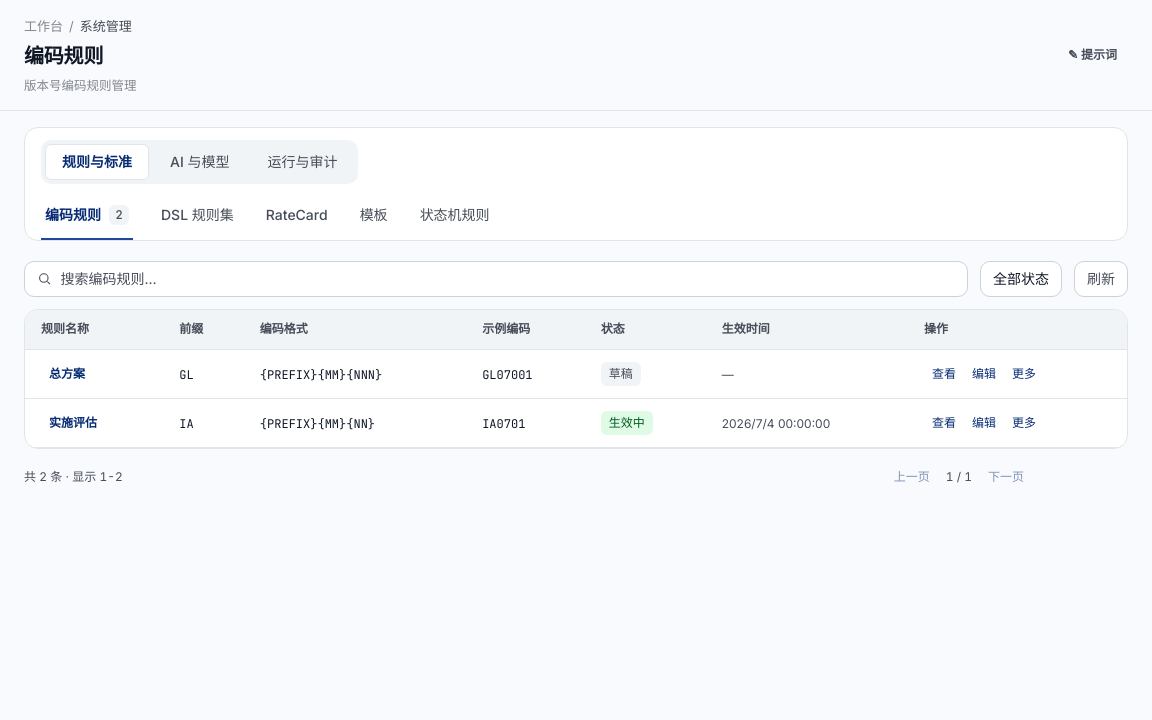
Test: SystemManagement code rules actions › uses rule id for activate and disable actions and shows visible feedback
Expected: the button "总方案" is shown, [41, 358, 93, 390]
Click the button with aria-label "更多操作 总方案" at (1024, 374), box [1004, 358, 1044, 390]
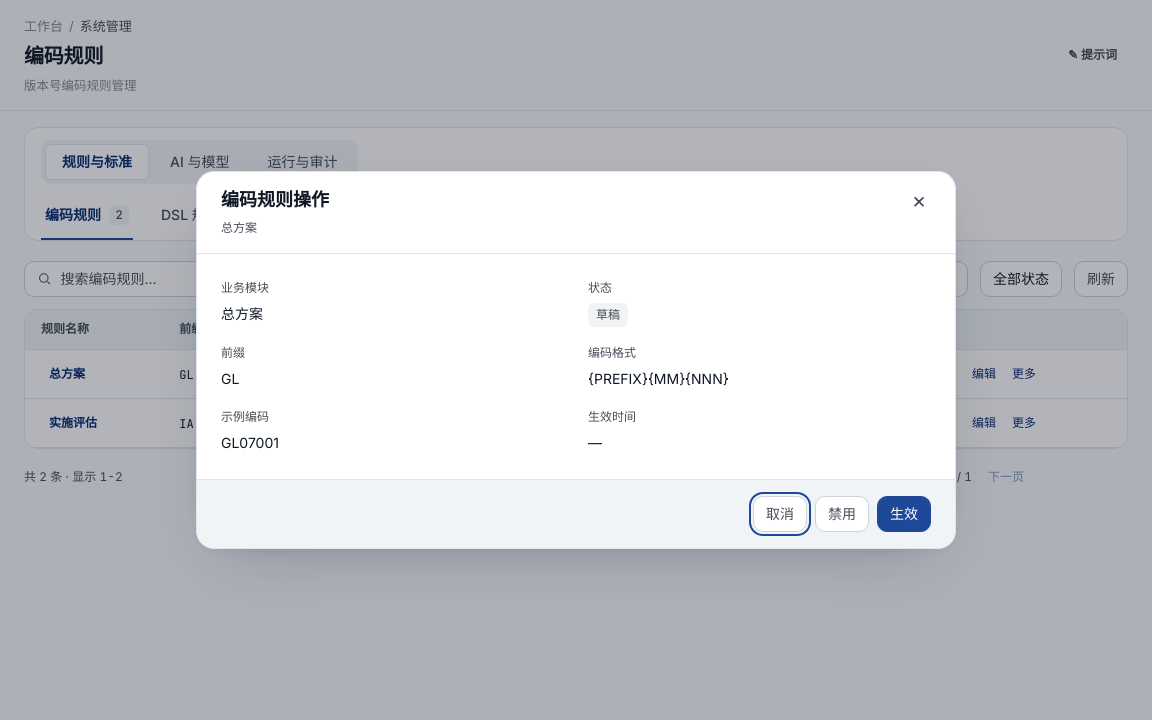
Click the button "生效" at (904, 514), box [877, 496, 931, 532]
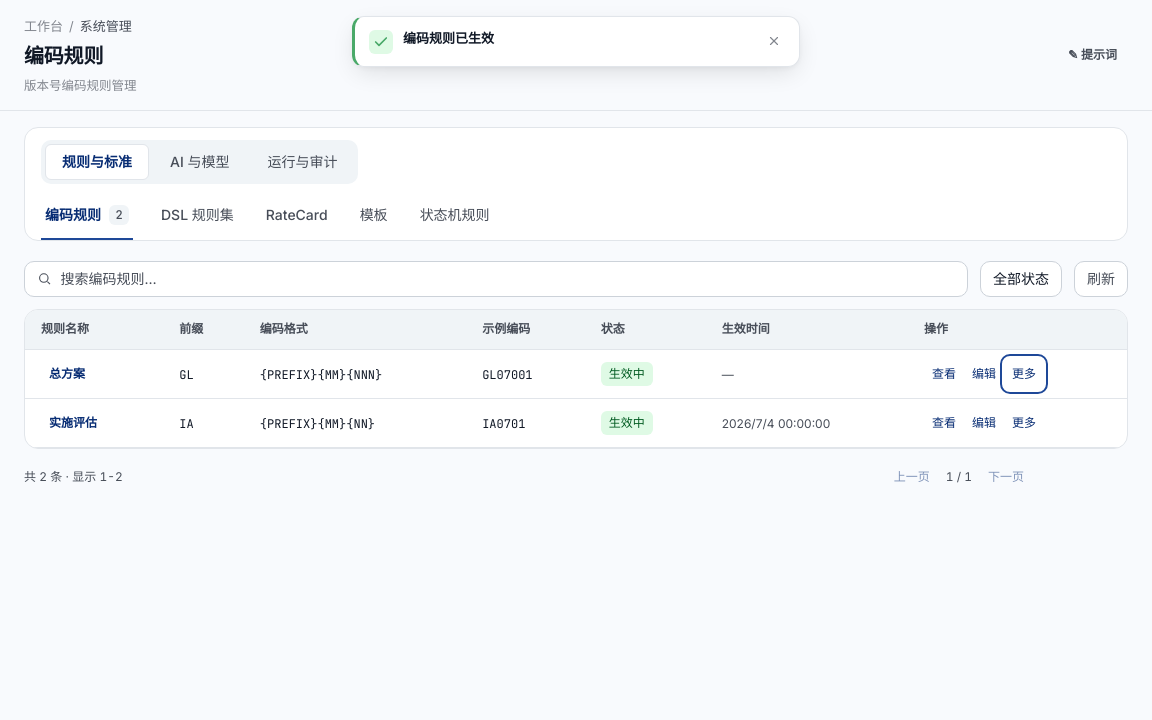
Result: the message reads "编码规则已生效" at [403, 30, 494, 46]
Click the button named "关闭提示" at (773, 41), box [761, 29, 785, 53]
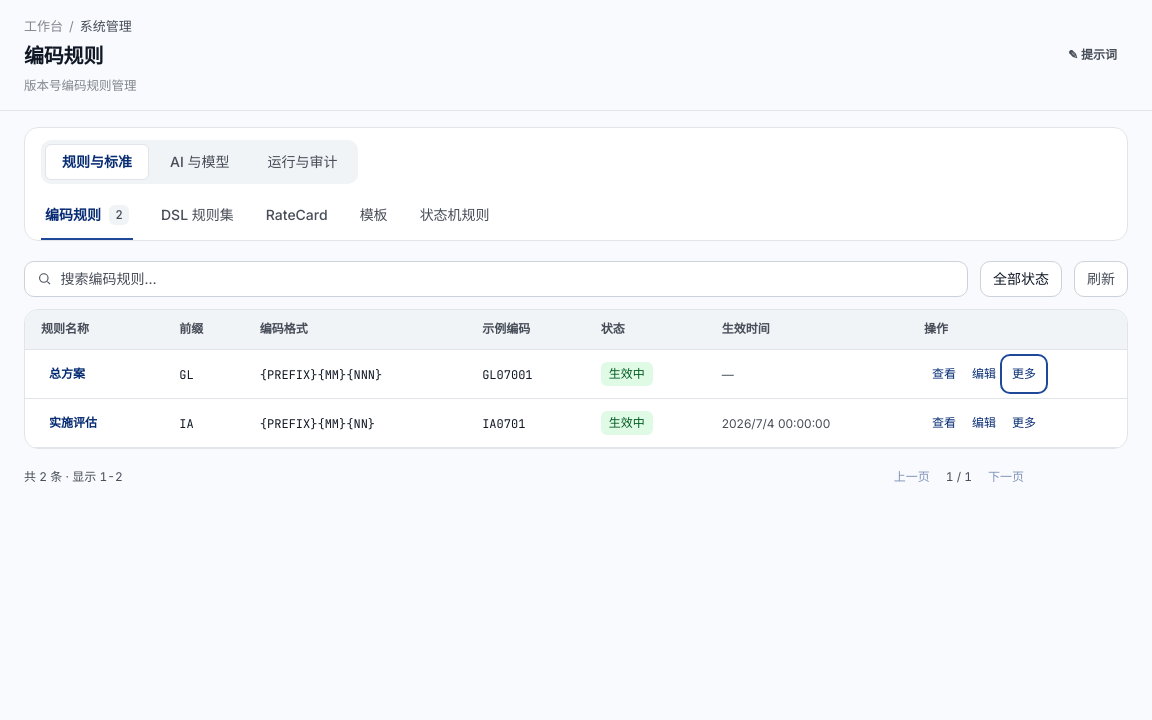
Click the button with aria-label "更多操作 总方案" at (1024, 374), box [1004, 358, 1044, 390]
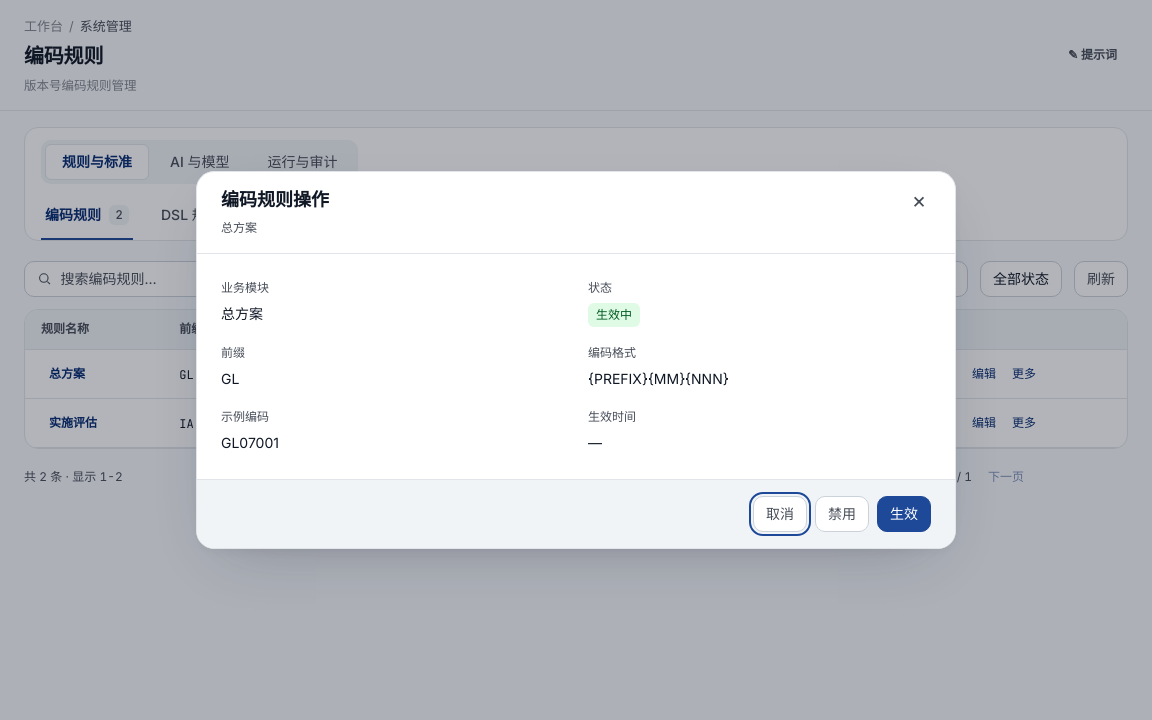
Click the button "禁用" at (842, 514), box [815, 496, 869, 532]
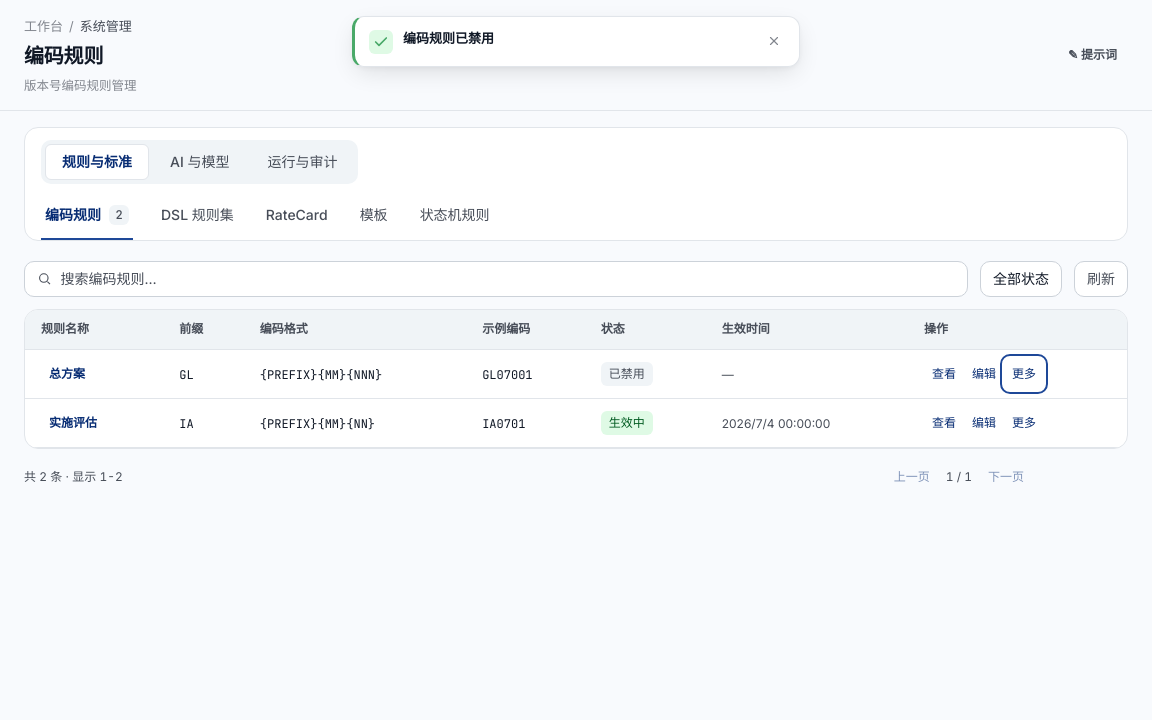
Result: the message reads "编码规则已禁用" at [403, 30, 494, 46]
